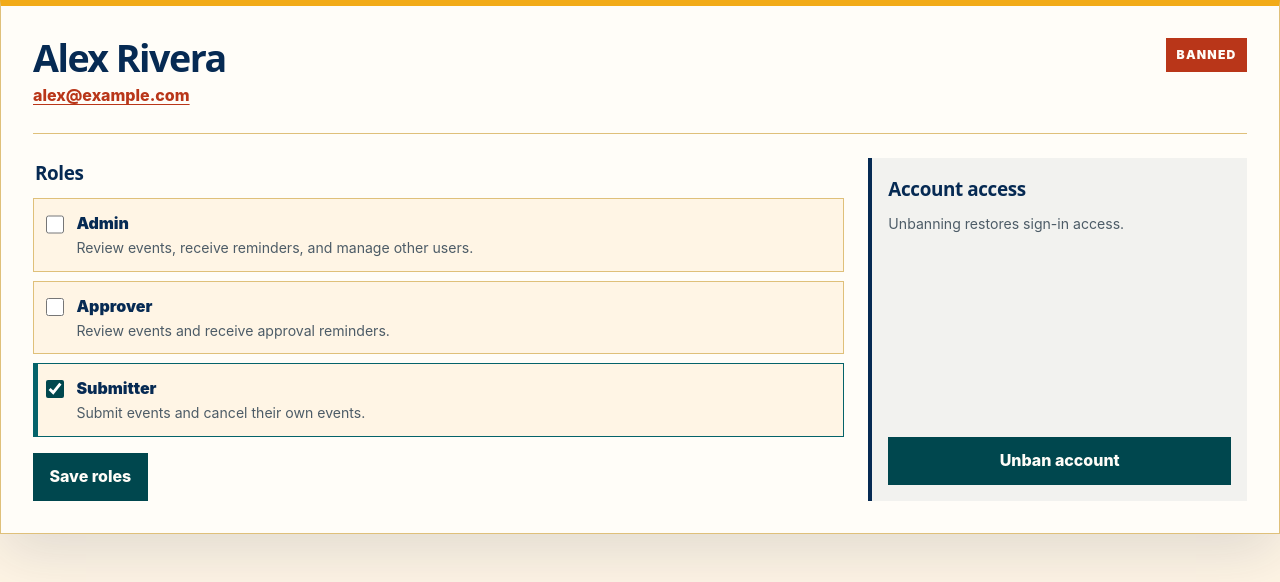
Test: UserManagementCard › submits an unban without a destructive confirmation
The image size is (1280, 582).
Click the button "Unban account" at (1060, 461), box [888,437,1231,485]
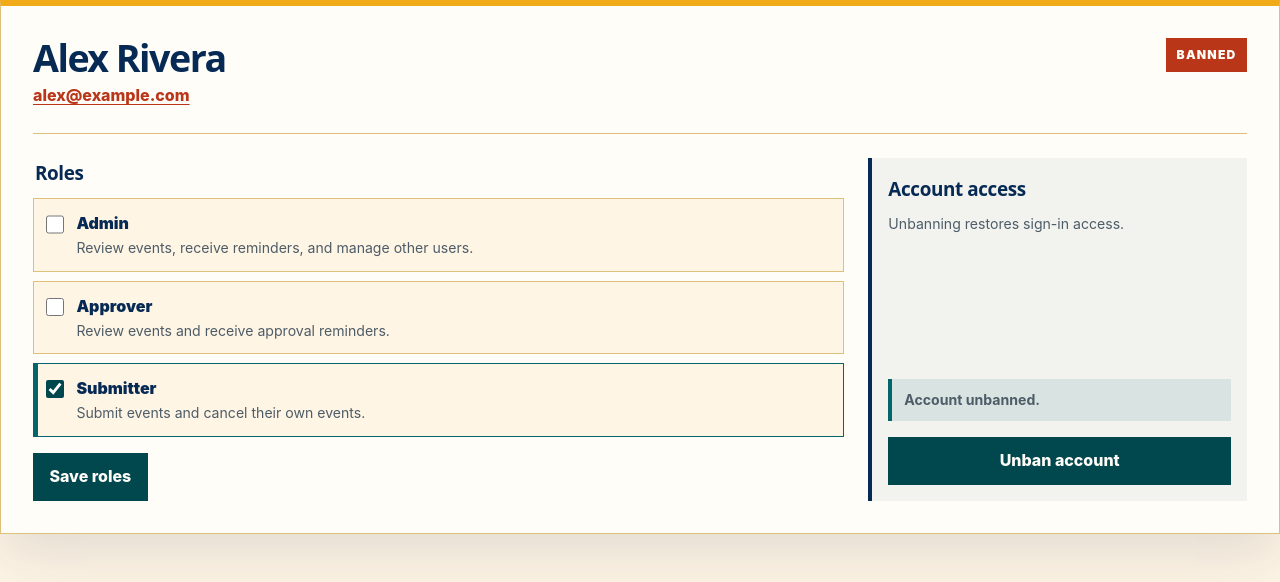
Result: the message reads "Account unbanned." at [904,391,1040,408]
